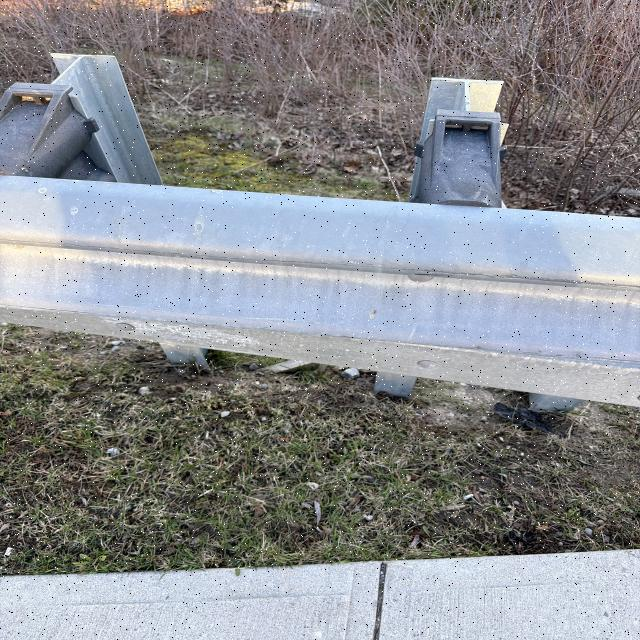Guard rail: (0, 186, 612, 366), (3, 58, 164, 182)
